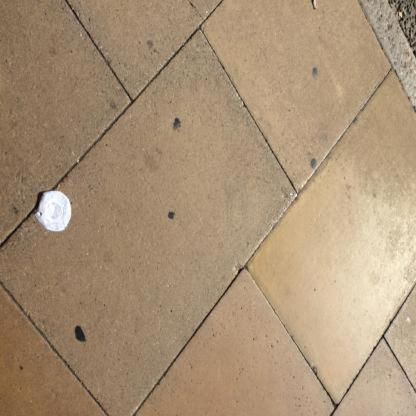Cigarette: (312, 1, 317, 10)
Lid: (35, 191, 71, 232)
